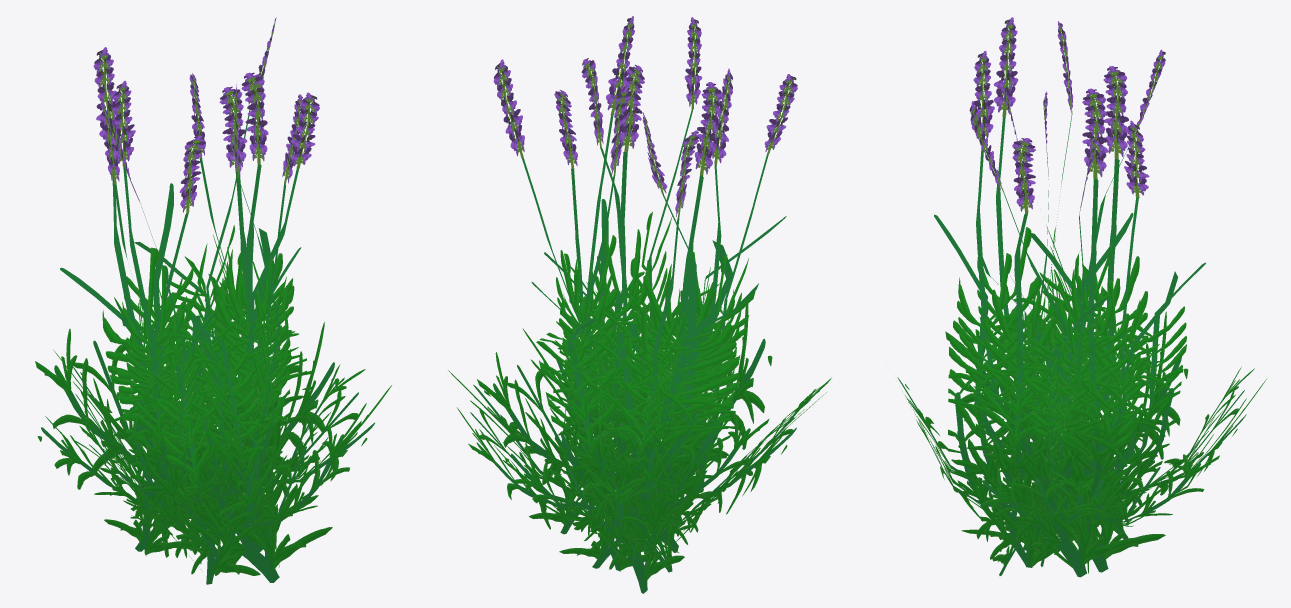
File: PT_Lavender_01.fbx
3 renders of one model, left to right at view 1: azimuth 30°, elevation 25°; view 2: azimuth 150°, elevation 25°; view 3: azimuth 270°, elevation 25°, orthographic. The views are drawn at different scales.
Visible parts, largest first — view 1: PT_Lavender_01_LOD0; view 2: PT_Lavender_01_LOD0; view 3: PT_Lavender_01_LOD0.
Boxes of the visible parts, bbox=[...] form: PT_Lavender_01_LOD0: bbox=[35, 17, 391, 584]; PT_Lavender_01_LOD0: bbox=[448, 16, 831, 593]; PT_Lavender_01_LOD0: bbox=[897, 17, 1266, 577].
Size of what is drawn, in the model's own units: 69.77 by 94.82 by 68.29.
